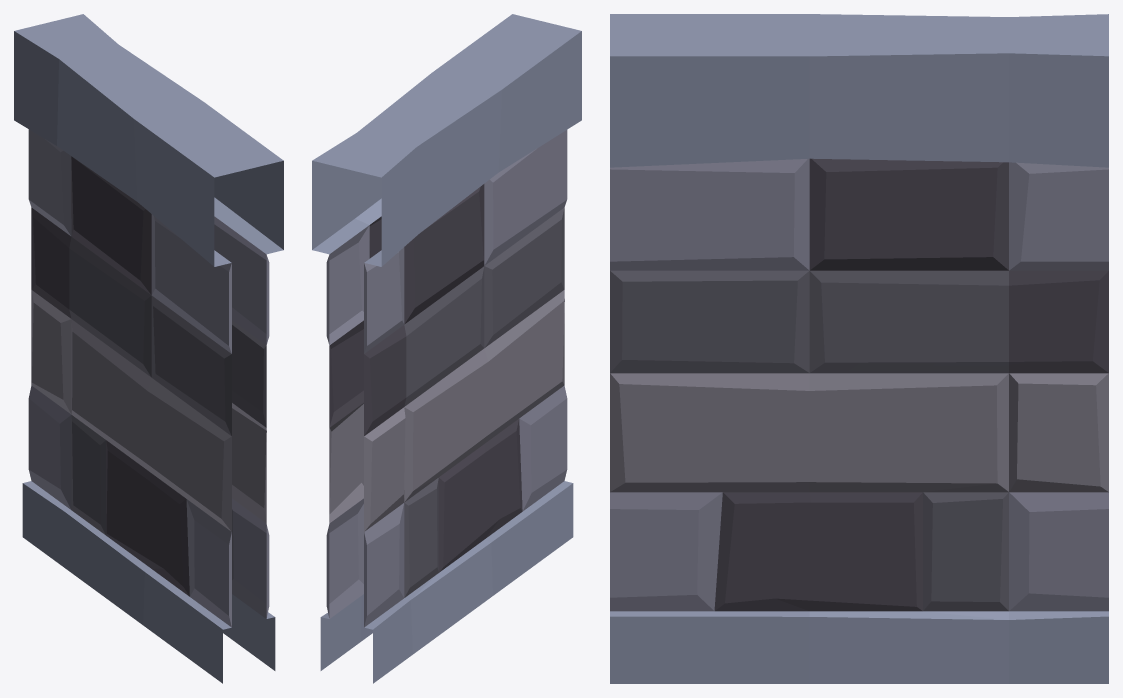
File: wall_small.fbx
3 renders of one model, left to right at view 1: azimuth 30°, elevation 25°; view 2: azimuth 150°, elevation 25°; view 3: azimuth 270°, elevation 25°, orthographic. The views are drawn at different scales.
Parts seen in each view (by area): view 1: wall_small; view 2: wall_small; view 3: wall_small.
Part boxes in pixels (bbox=[...]): wall_small: bbox=[14, 14, 283, 683]; wall_small: bbox=[312, 14, 581, 683]; wall_small: bbox=[610, 14, 1108, 683].
Size of the model in its own units: 60.4 by 420 by 300.
